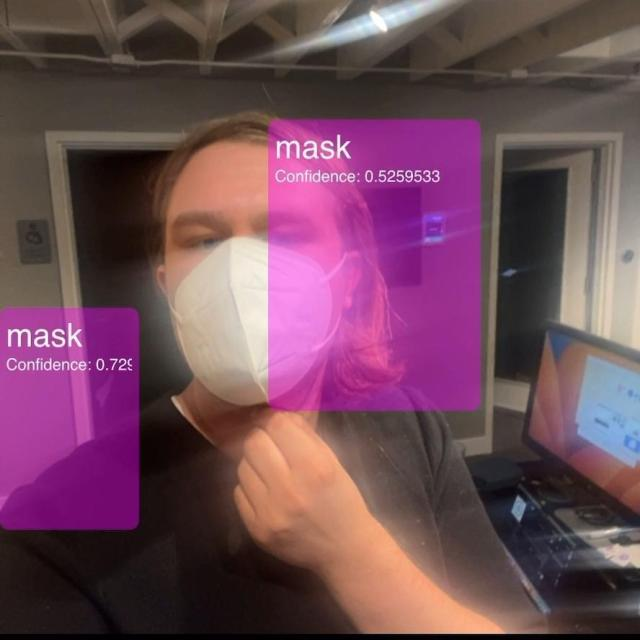no-helmet: (150, 76, 411, 415)
